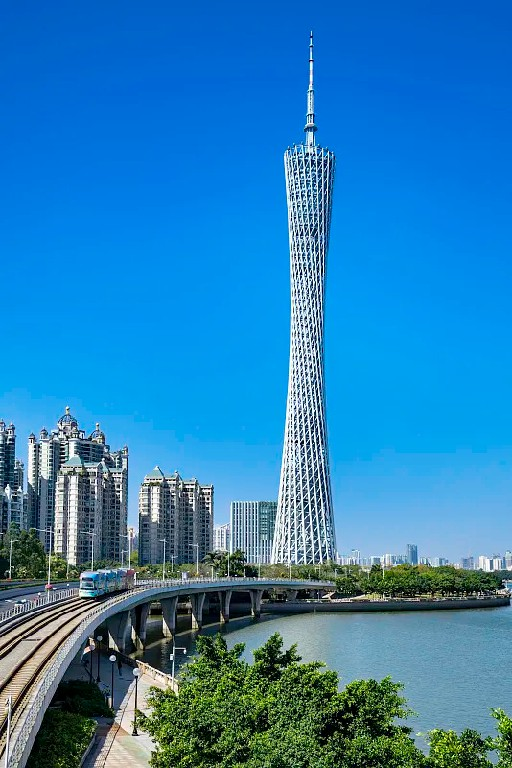Canton: (274, 26, 340, 568)
